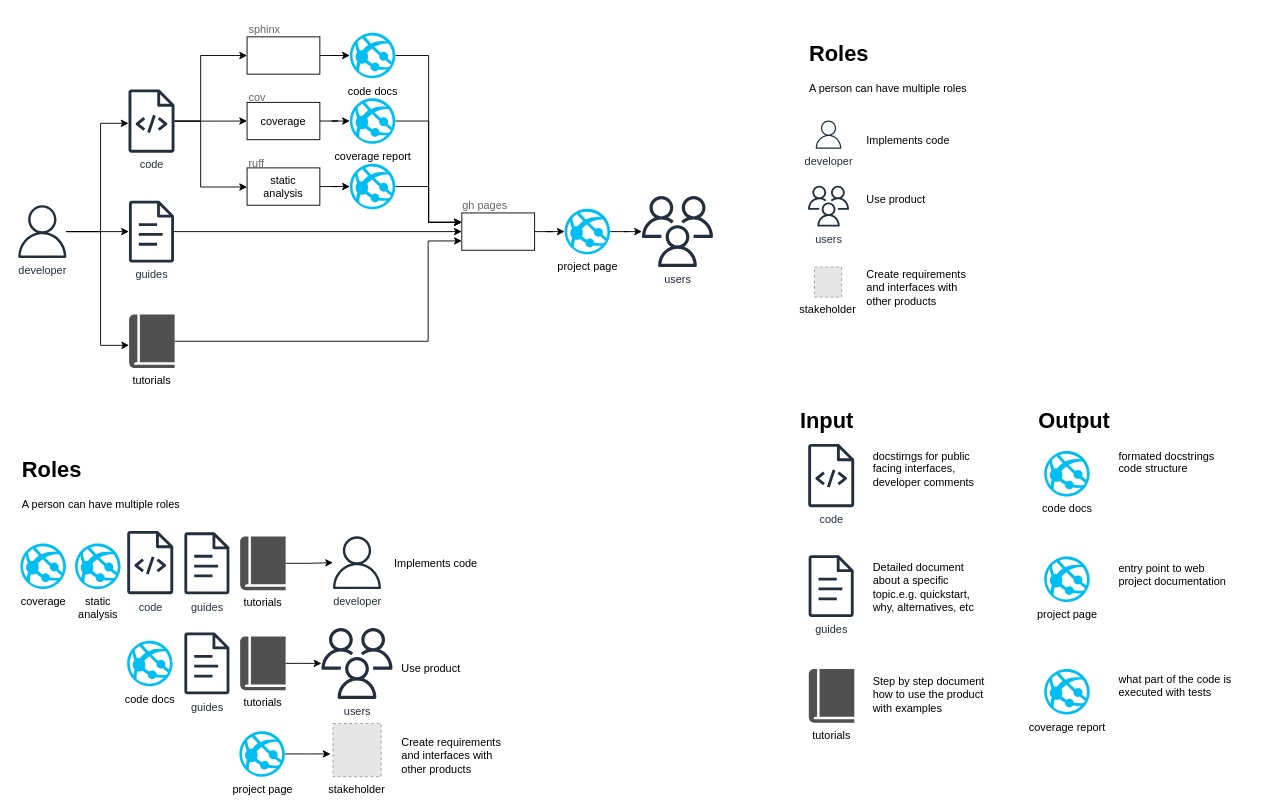
Some shapes in this 1261 by 811 pixel diagram are drawn without their labels. Grey dashed boxes stand in for pictures. The shapes that lost their labels are listed below. From the top down, each one's centre as x and y in pixels, then its label:
At point 283,55: "docstring parser".
At point 372,186: "static analsys report".
At point 498,231: "static page generator".
